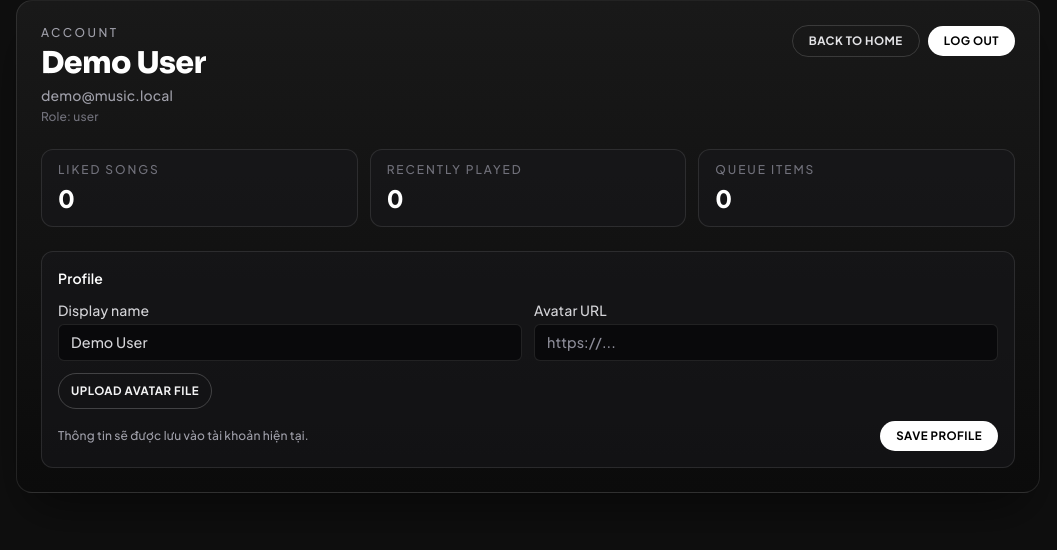
Test: AccountPage › blocks submit when avatar url is invalid
Type "invalid-url" into the field labelled "Avatar URL" at (766, 343), box x1=534 y1=324 x2=998 y2=361
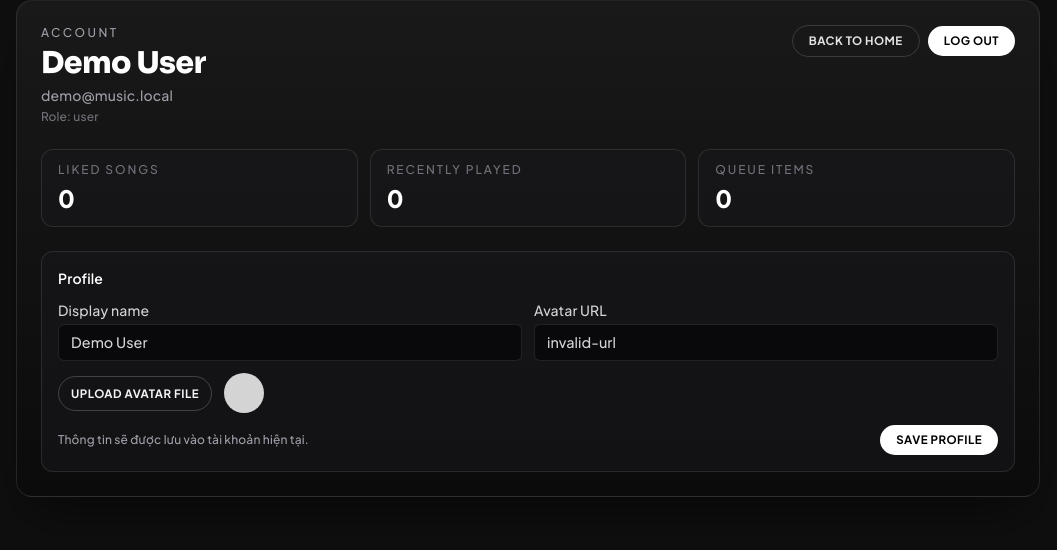
Click the button "Save profile" at (939, 440), box x1=880 y1=425 x2=998 y2=455
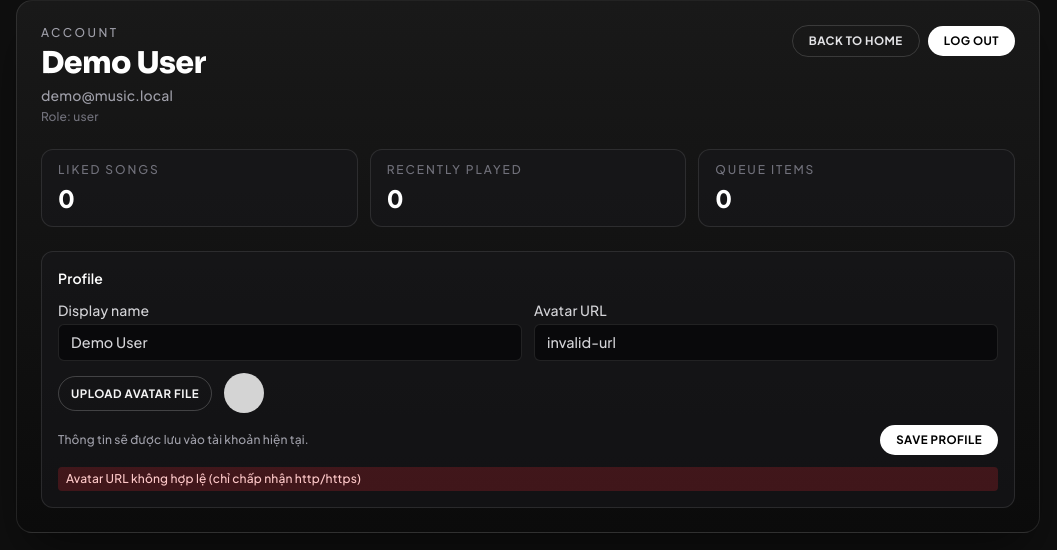
Result: the text "Avatar URL không hợp lệ (chỉ chấp nhận http/https)" is shown at x1=58 y1=467 x2=998 y2=491
